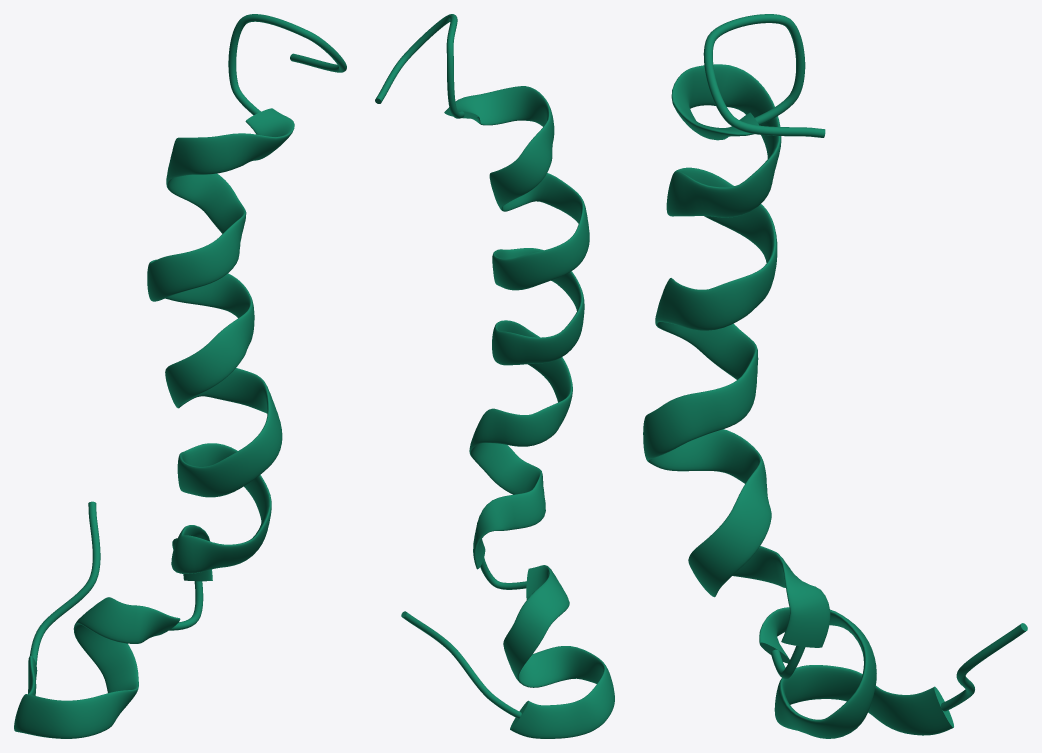
3 views of the same model, side by side, from view 1: azimuth 30°, elevation 25°; view 2: azimuth 150°, elevation 25°; view 3: azimuth 270°, elevation 25° (orthographic). The views are drawn at different scales.
Size of the model in its own units: 16.55 by 39.85 by 16.95.
